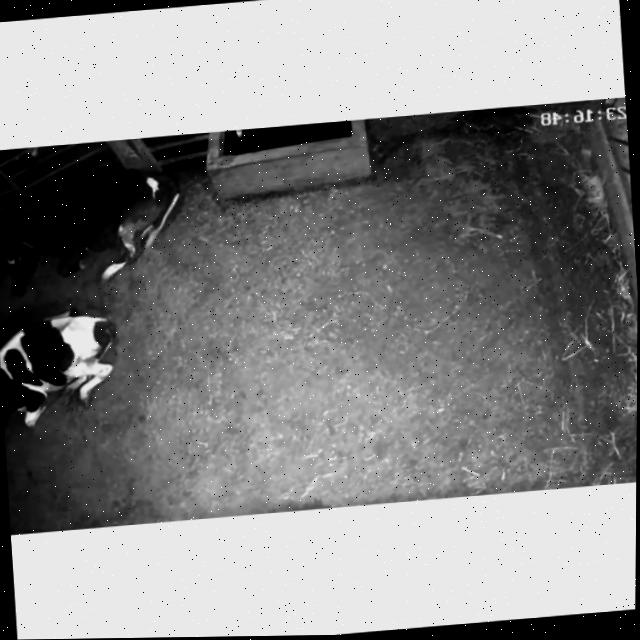lay: (0, 156, 194, 301), (0, 293, 136, 468)
